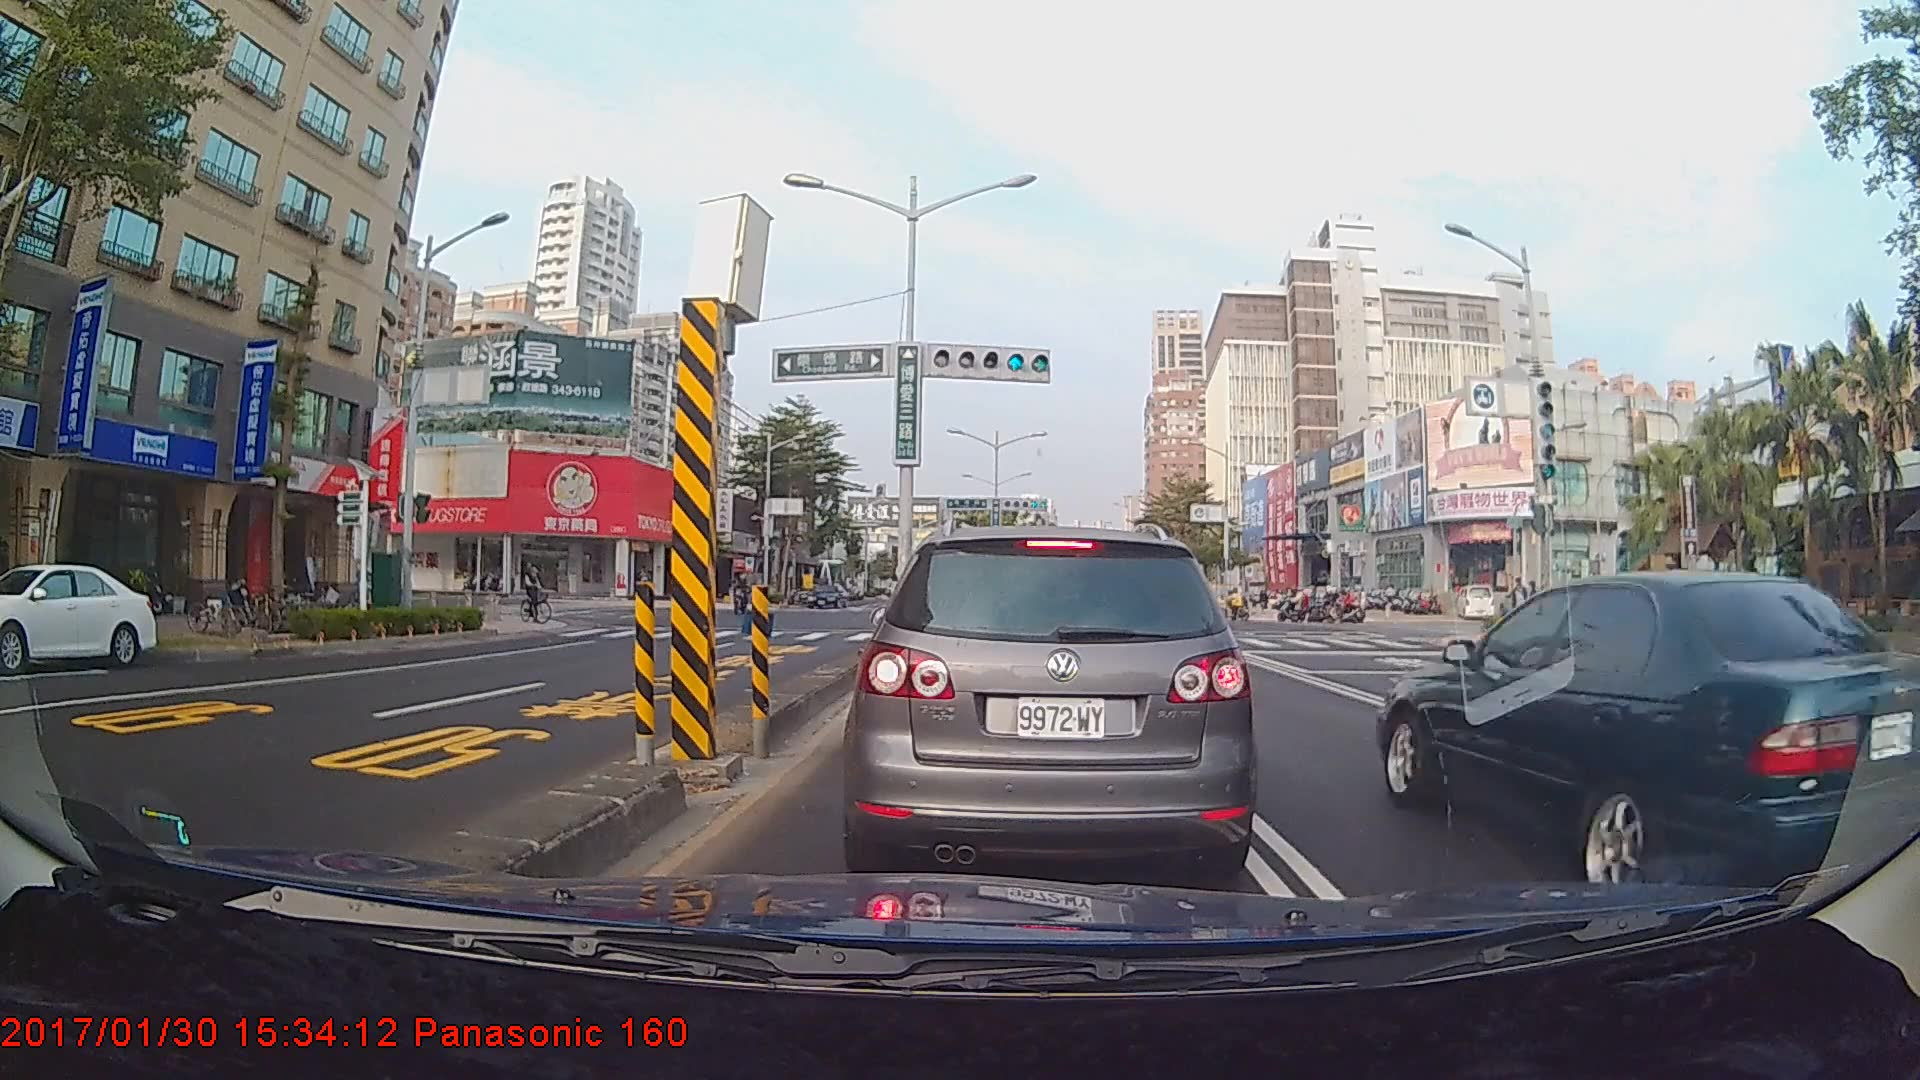pedestrian: (1791, 579, 1817, 646)
rider: (518, 559, 561, 629)
vehicle: (1372, 560, 1920, 894), (856, 521, 1248, 879), (0, 561, 160, 671), (809, 584, 846, 609)
